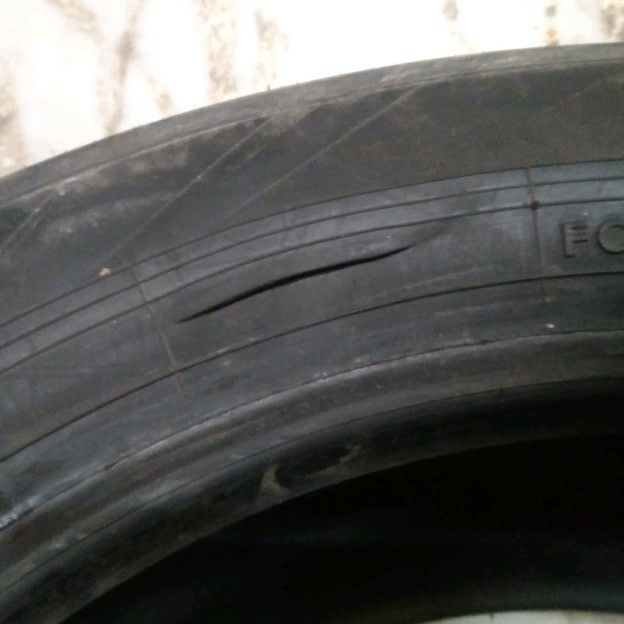cut: (169, 238, 421, 327)
